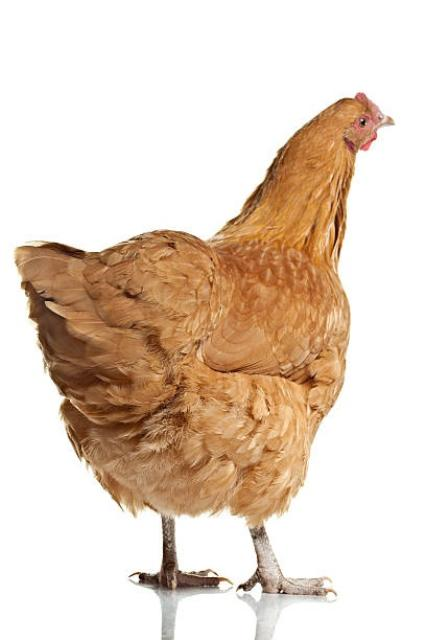Chicken: (13, 92, 397, 598)
